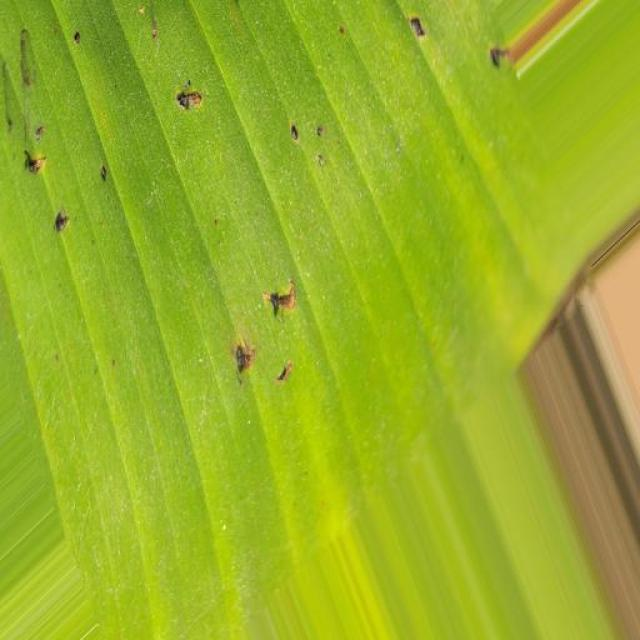Black_rot: (144, 8, 378, 170), (5, 7, 119, 232), (388, 5, 544, 78), (223, 282, 319, 398)
